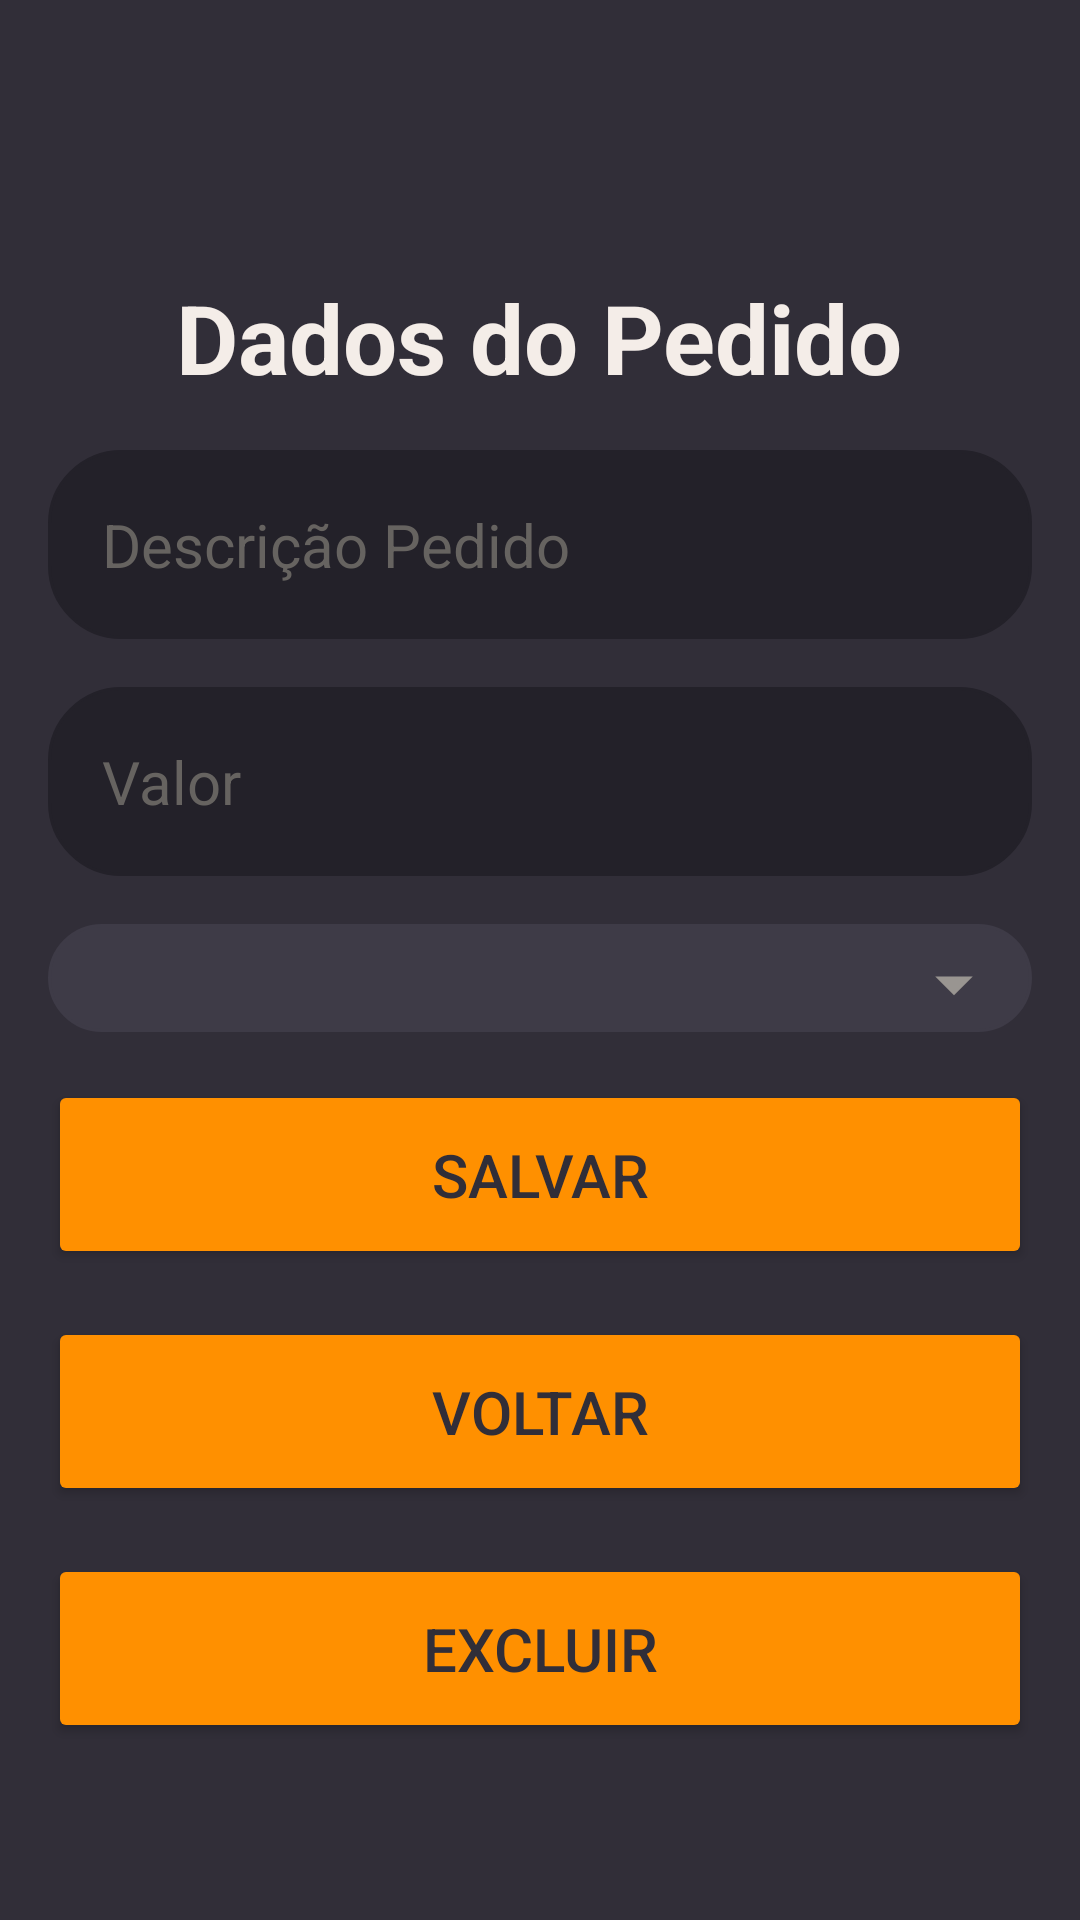

Locate icon controls on the screen. Image size 1080 × 1920, boxes as (x1, y1, x2, y2).
arrow drop down: (935, 976, 973, 995)
